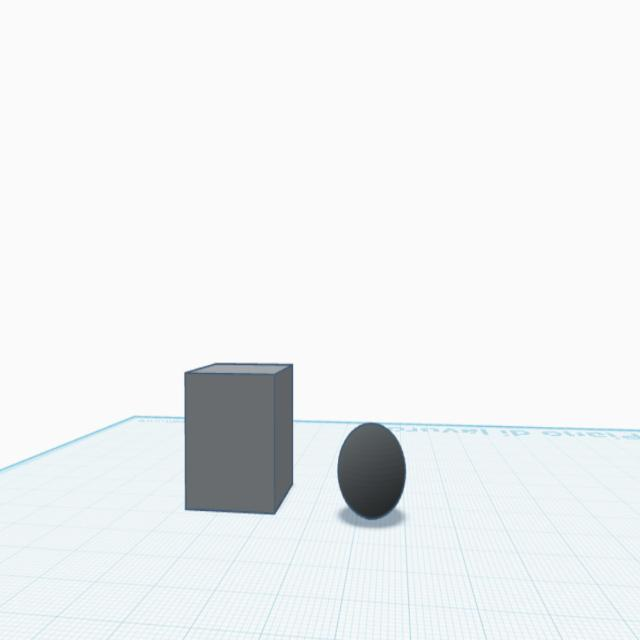cube: (180, 356, 296, 522)
sphere: (334, 418, 410, 523)
